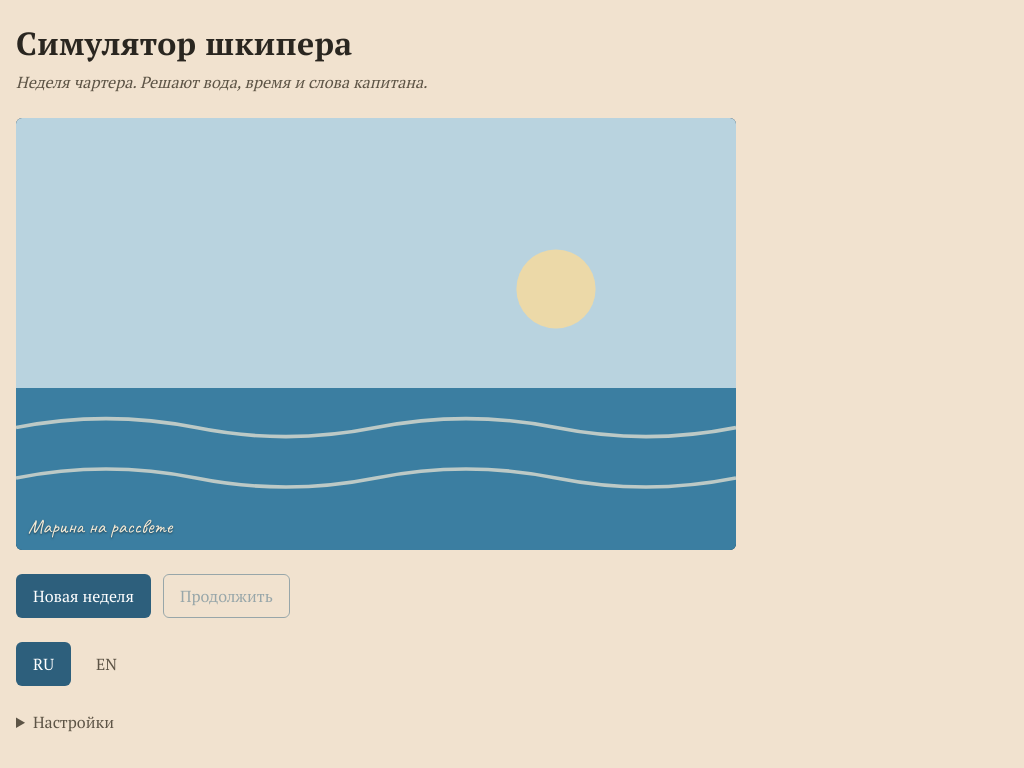
Test case: MenuScreen › switches the language of the whole menu
Step 1. Click the button "EN" → (106, 664), box [79,642,134,686]
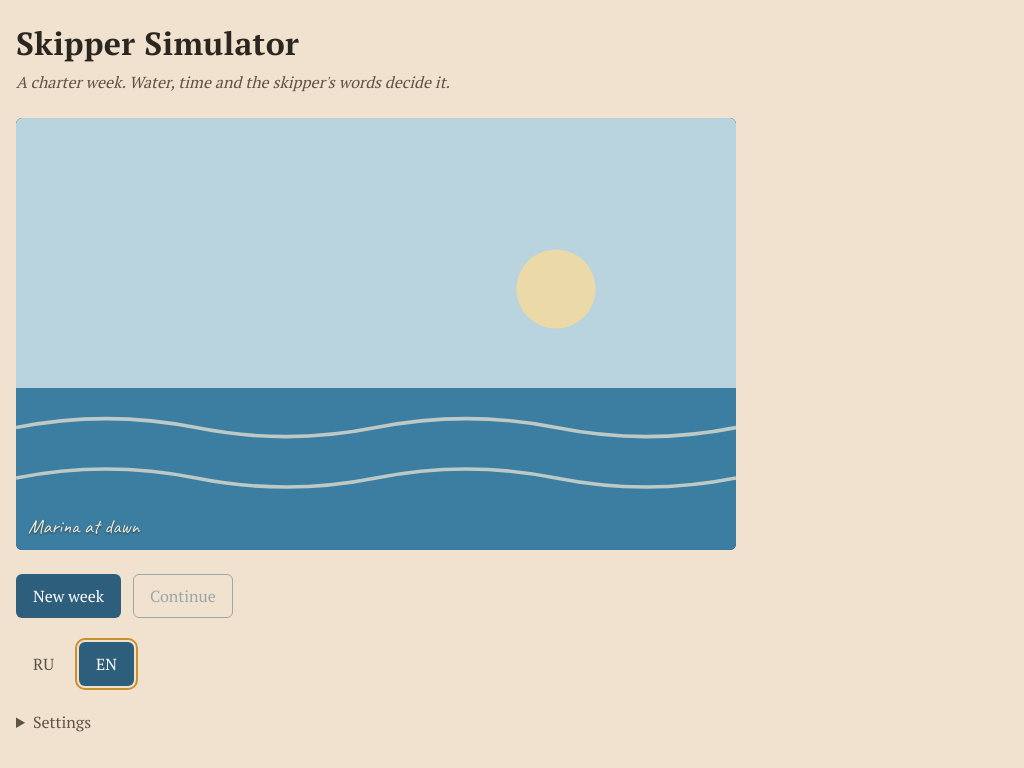
Now the button "New week" is shown, box [16,574,121,618]
